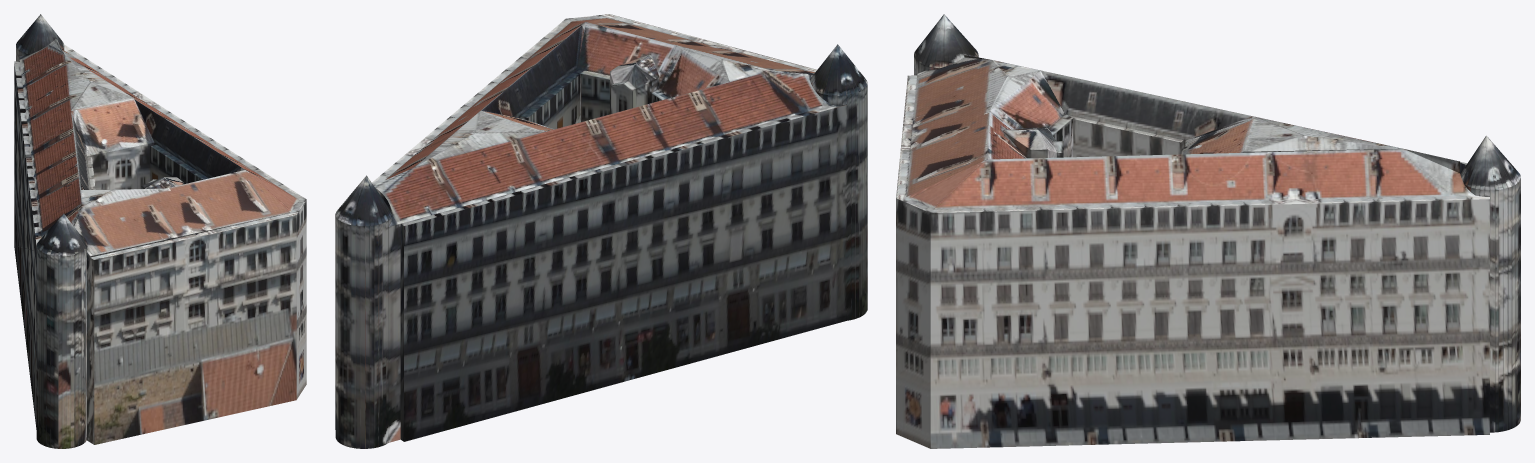
3 renders of one model, left to right at view 1: azimuth 30°, elevation 25°; view 2: azimuth 150°, elevation 25°; view 3: azimuth 270°, elevation 25°, orthographic. The views are drawn at different scales.
Parts seen in each view (by area): view 1: Z_UP; view 2: Z_UP; view 3: Z_UP.
Part boxes in pixels (left/top/right/bottom): Z_UP: left=14, top=14, right=306, bottom=448; Z_UP: left=335, top=14, right=867, bottom=448; Z_UP: left=896, top=14, right=1520, bottom=448.
Bounding box in the file's own units: 35.15 × 29.03 × 57.26.
2 materials, 1 textured.
